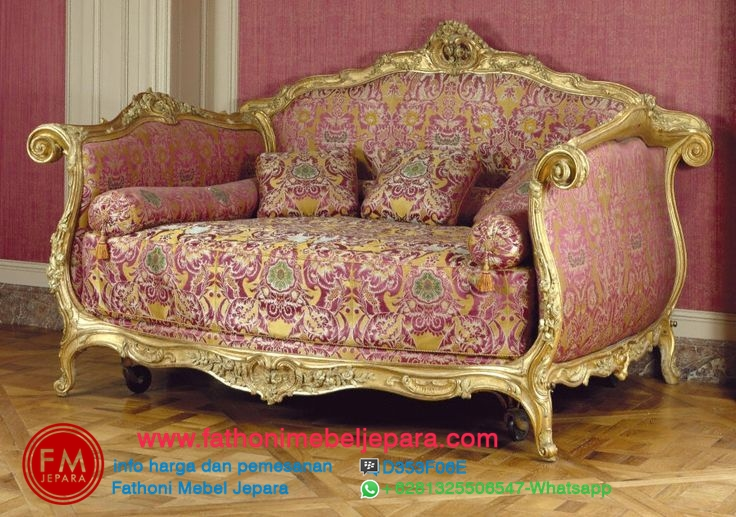Carving Chair: (34, 56, 702, 460)
